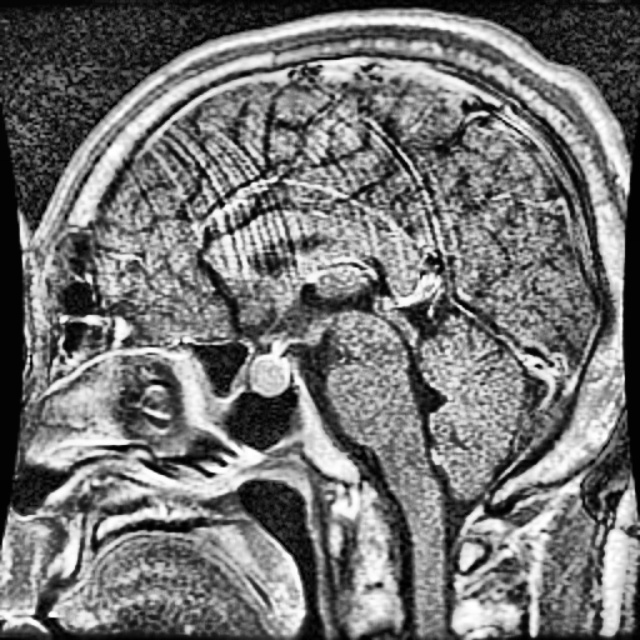Pituitary: (248, 353, 288, 395)
